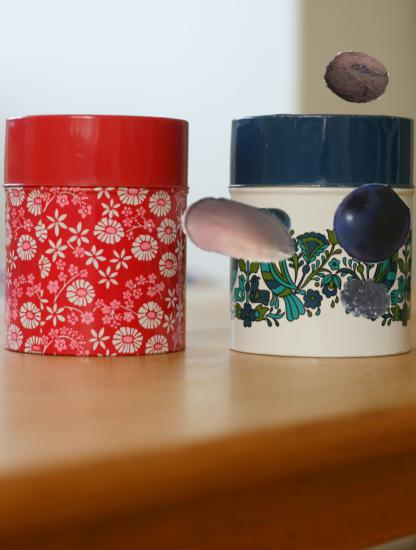Blueberry: (239, 202, 293, 256)
Cocos: (324, 45, 389, 110)
Grape: (332, 185, 410, 263)
Hazelnut: (178, 170, 300, 292)
Mulberry: (335, 273, 397, 335)
